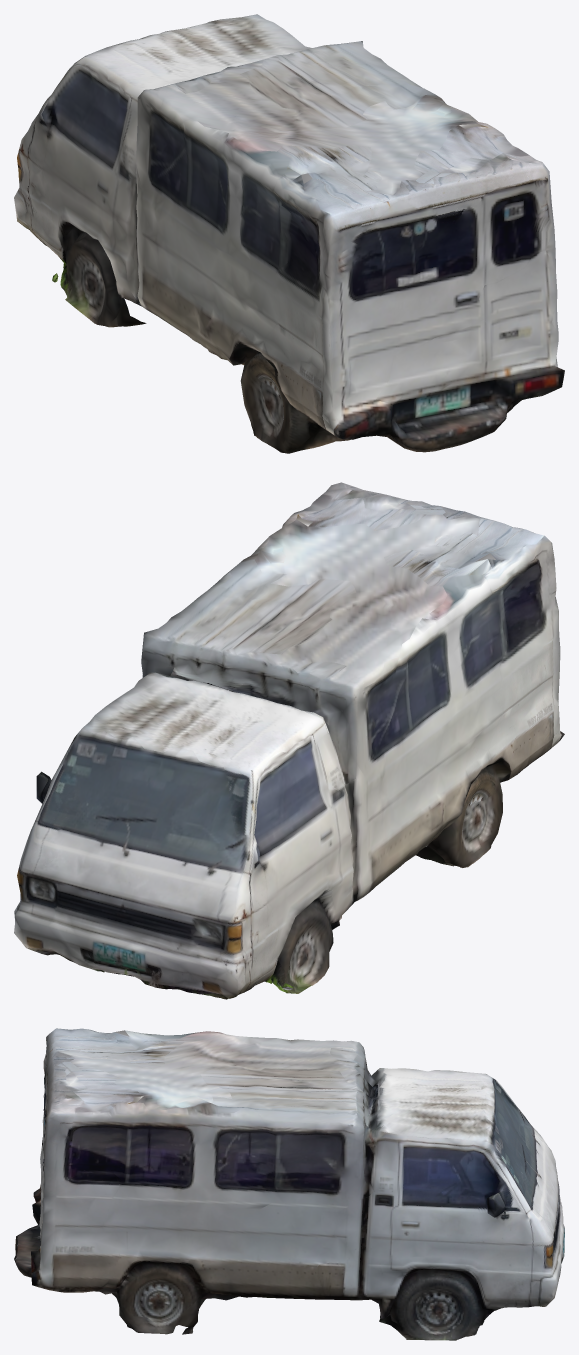
3 renders of one model, top to bottom at view 1: azimuth 30°, elevation 25°; view 2: azimuth 150°, elevation 25°; view 3: azimuth 270°, elevation 25°, orthographic. The views are drawn at different scales.
Visible parts, largest first — view 1: Multicab 1_0; view 2: Multicab 1_0; view 3: Multicab 1_0.
Boxes of the visible parts, x1=… form: Multicab 1_0: x1=14, y1=14, x2=564, y2=453; Multicab 1_0: x1=14, y1=482, x2=564, y2=999; Multicab 1_0: x1=14, y1=1028, x2=564, y2=1340.
Size of the model in its own units: 1.77 by 1.95 by 4.24.
1 material, 1 textured.
